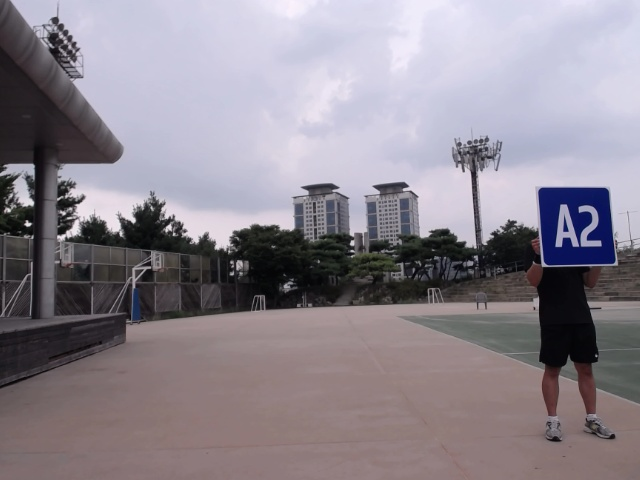delivery_a2: (537, 187, 616, 265)
